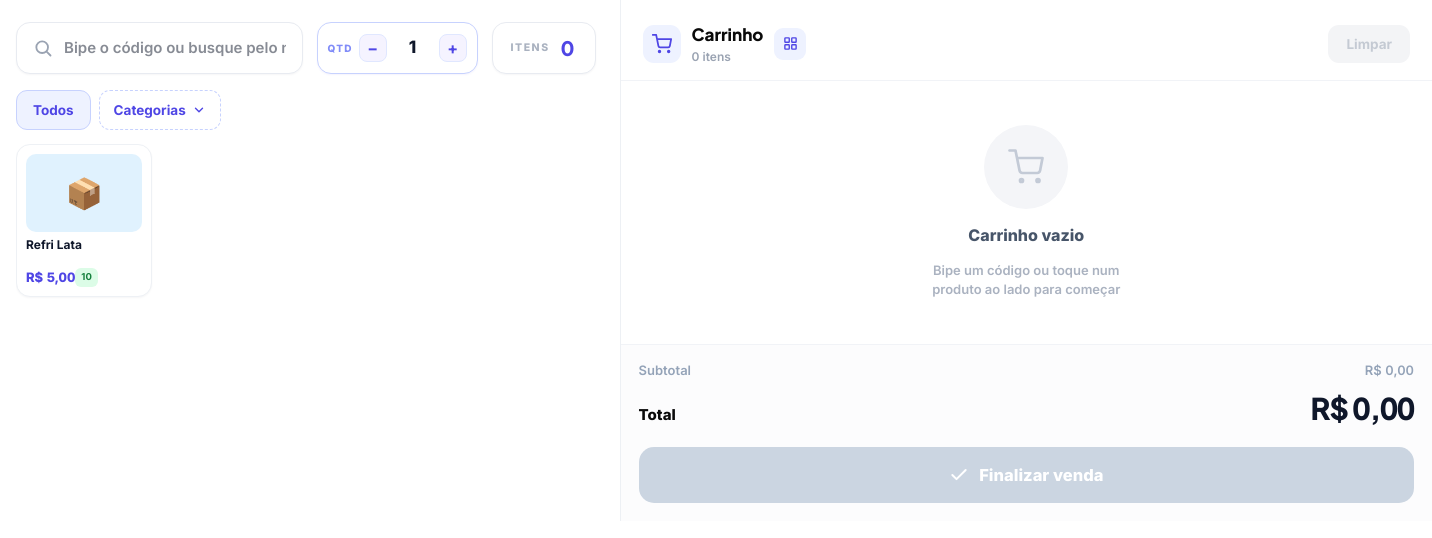
Test: CashierScreen chips dinâmicos (RF07/RF08 — spec T08/T10) › T08 — chips = Todos + categorias do tenant por position, sem lista fixa
Click the button with aria-label "Mostrar categorias". click: [160, 110]
box: x1=99 y1=90 x2=221 y2=130
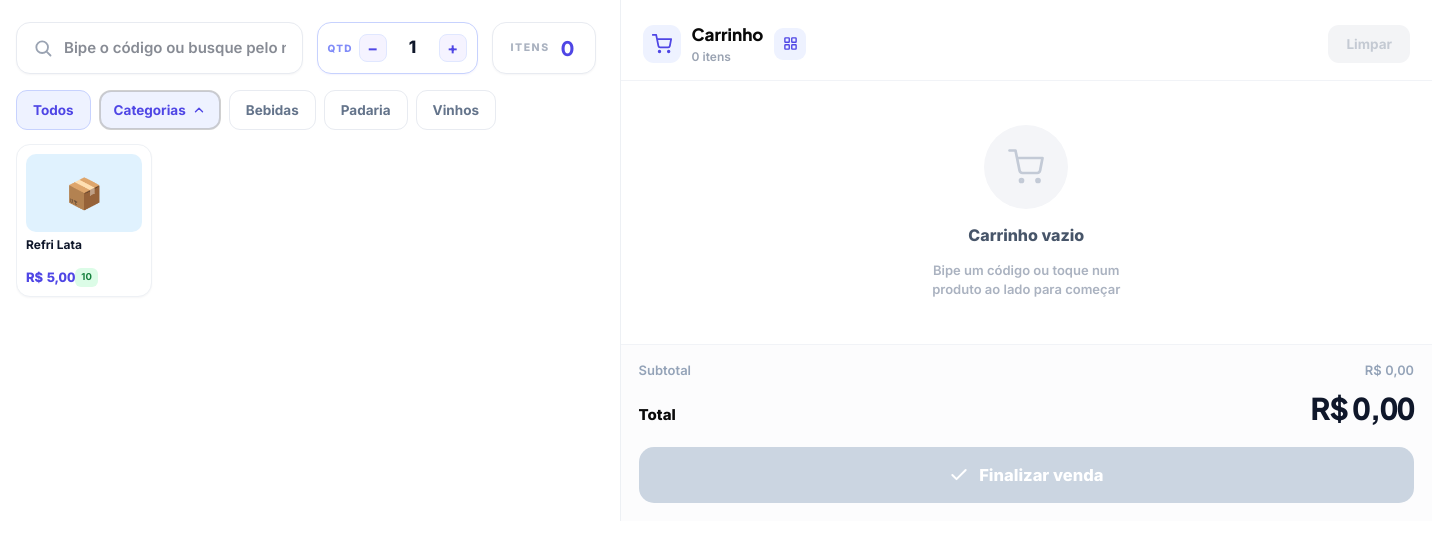
Expected: the buttons read "Todos", "Categorias", "Bebidas", "Padaria", "Vinhos", in this order, x1=16 y1=90 x2=91 y2=130; x1=99 y1=90 x2=221 y2=130; x1=229 y1=90 x2=316 y2=130; x1=324 y1=90 x2=408 y2=130; x1=416 y1=90 x2=496 y2=130
